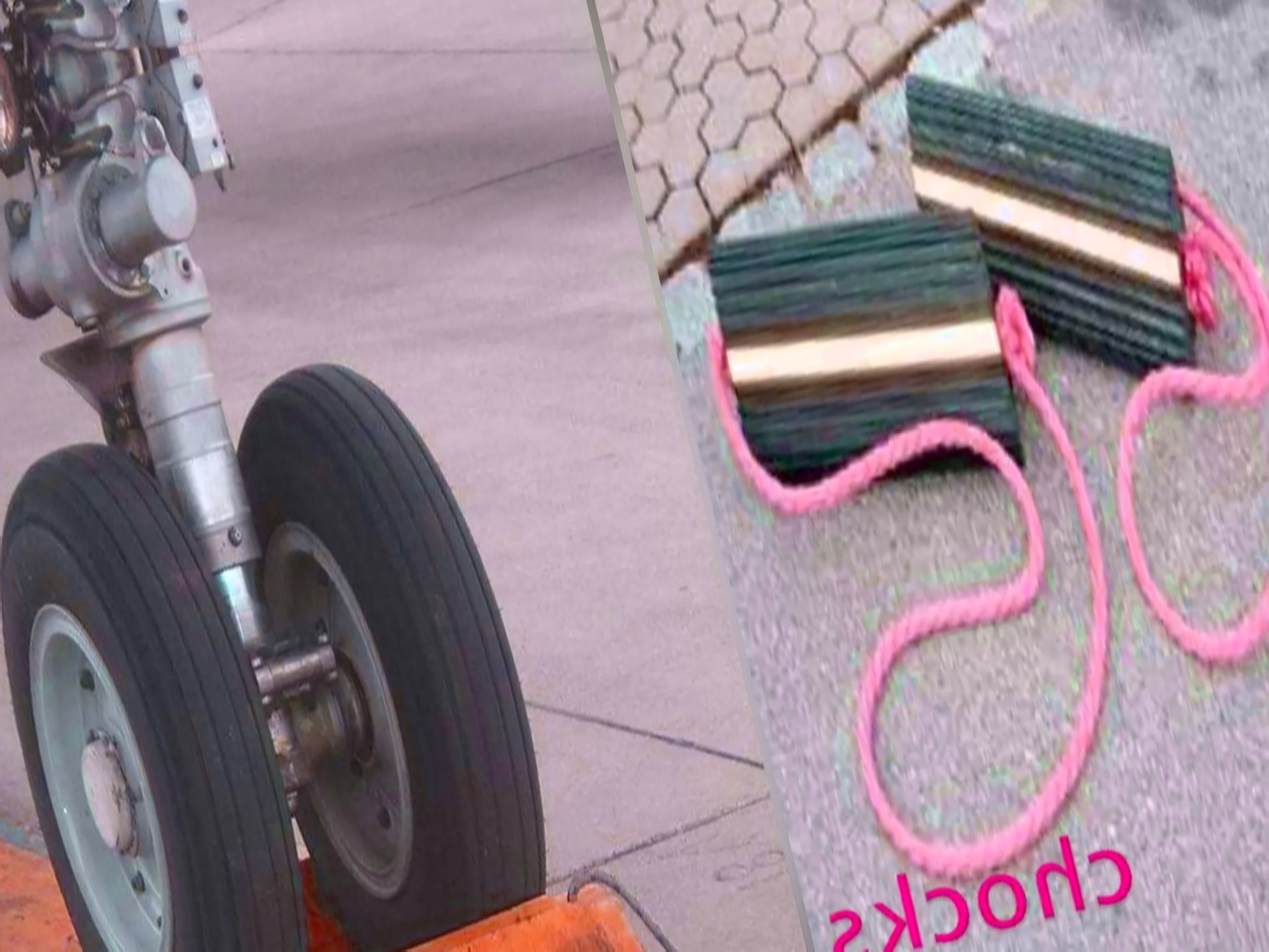chock: (881, 18, 1222, 421), (680, 185, 1036, 529), (219, 855, 680, 952)
wheel: (200, 335, 578, 952), (0, 421, 349, 952)
